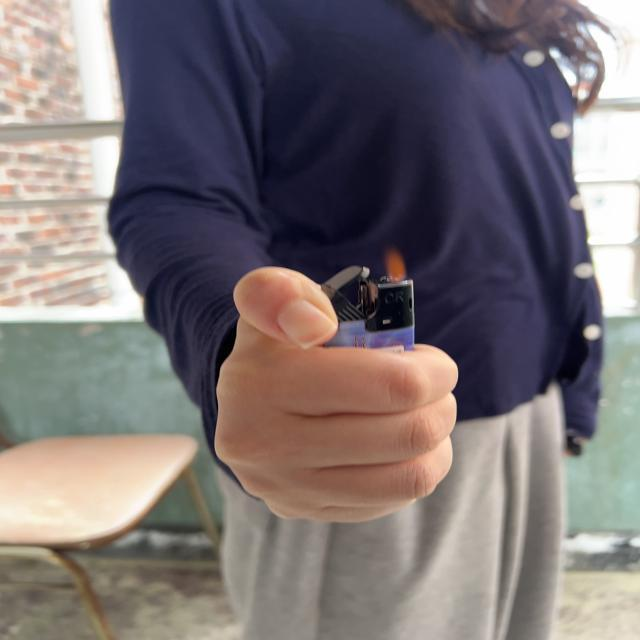fire: (382, 244, 412, 284)
